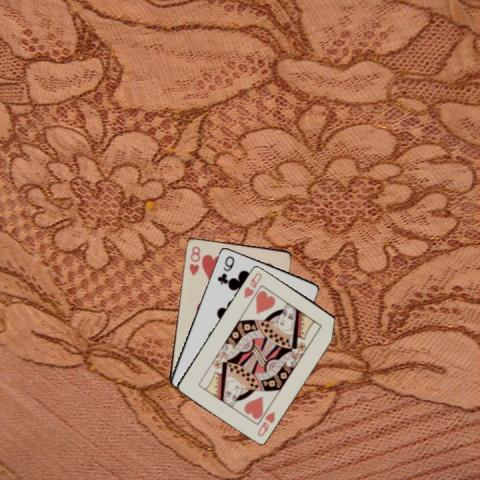8h: (186, 243, 201, 276)
9c: (215, 253, 235, 285)
Qh: (254, 408, 277, 438), (241, 270, 263, 300)
